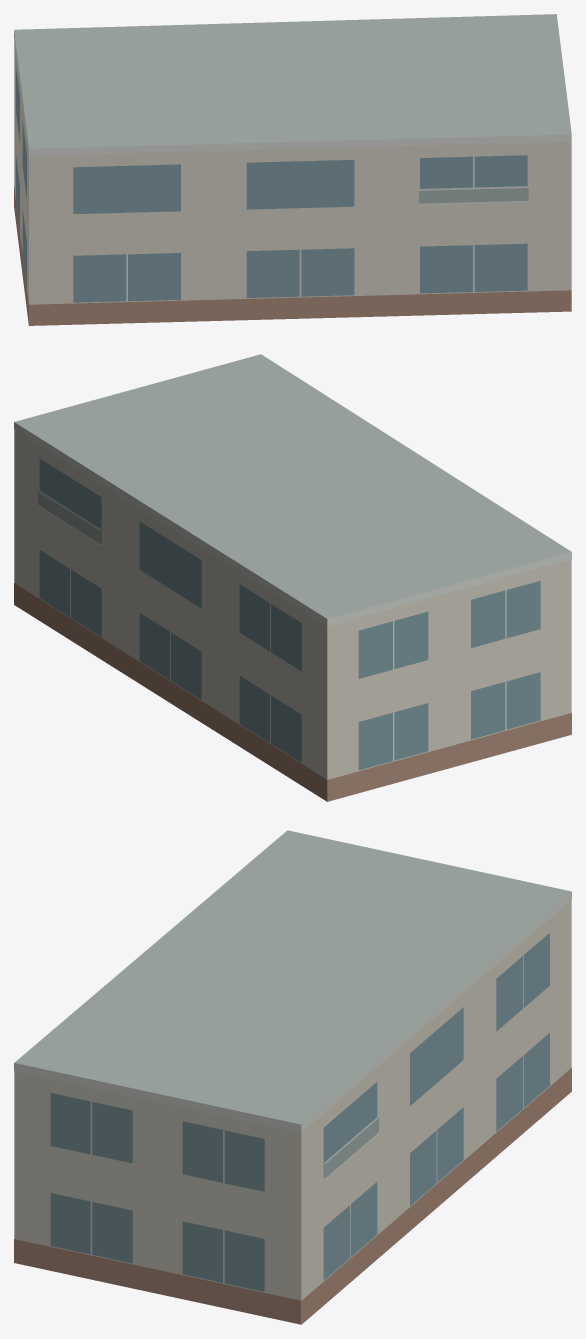
File: survey-upis-32844502.glb
The picture shows the model from 3 angles, top to bottom: view 1: azimuth 30°, elevation 25°; view 2: azimuth 150°, elevation 25°; view 3: azimuth 270°, elevation 25°; orthographic projection. The views are drawn at different scales.
Parts seen in each view (by area): view 1: survey-upis-32844502.tmp; view 2: survey-upis-32844502.tmp; view 3: survey-upis-32844502.tmp.
Boxes of the visible parts, left/top/right/bottom form: survey-upis-32844502.tmp: left=14, top=14, right=571, bottom=325; survey-upis-32844502.tmp: left=14, top=354, right=571, bottom=801; survey-upis-32844502.tmp: left=14, top=830, right=571, bottom=1324.
Bounding box in the file's own units: 18.95 × 6 × 15.17.
